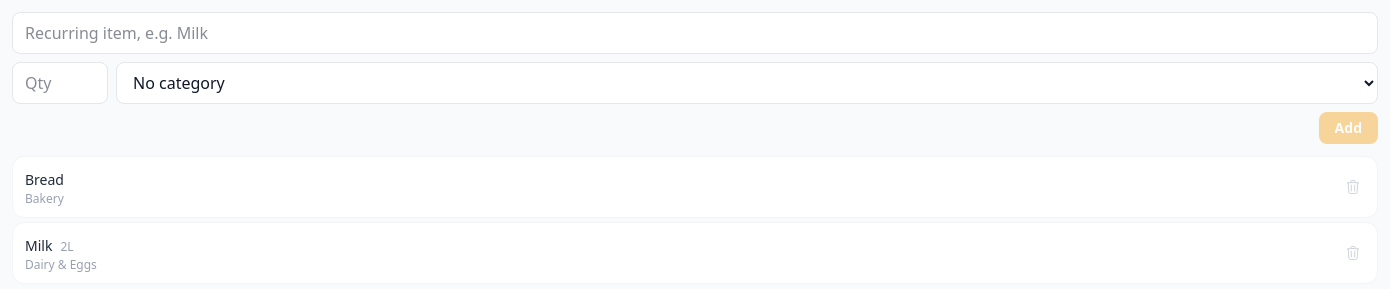
RecurringManager › suggests a category when the name loses focus
The width and height of the screenshot is (1390, 289).
Type "Rolls" into the field named "Recurring item name" at (695, 33), box [12,12,1378,54]
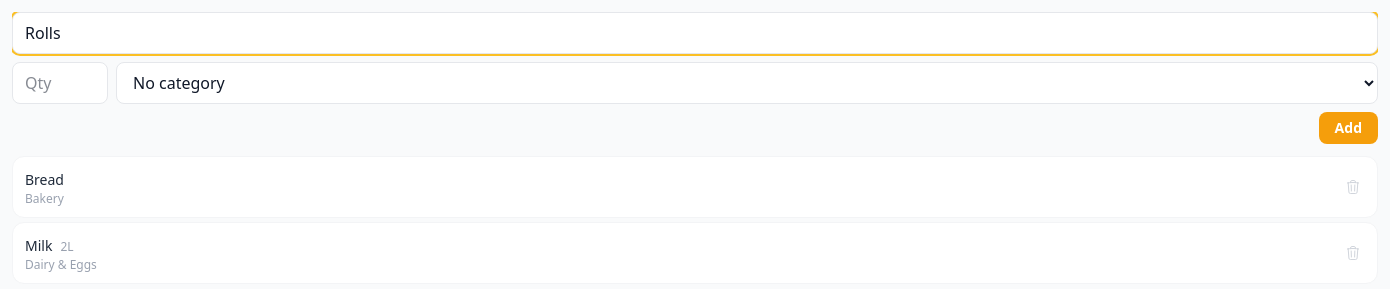
Press Tab
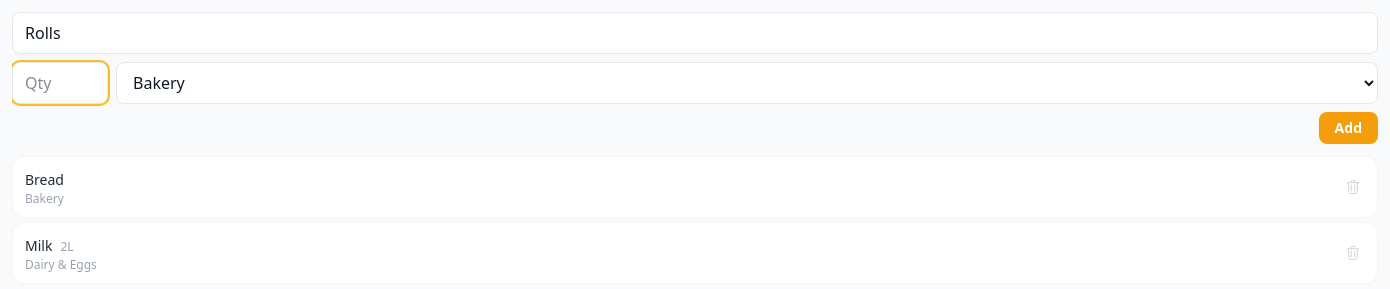
expect the dropdown named "Category" shows "Bakery": met, box [116,62,1378,104]
